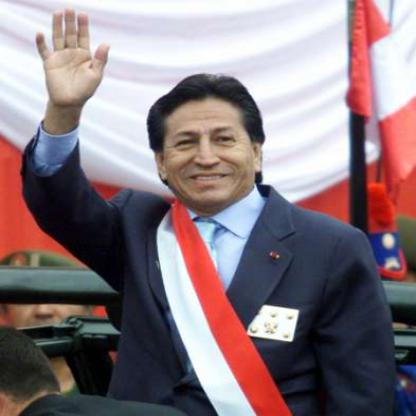face: (160, 81, 258, 208)
